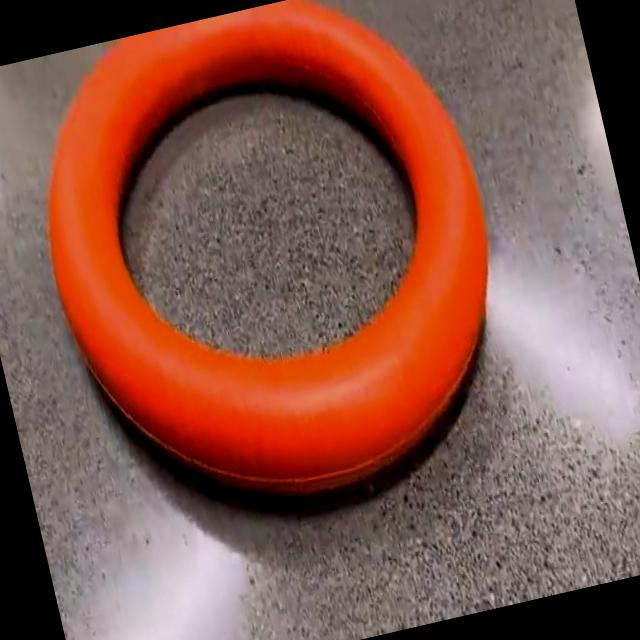note: (49, 0, 486, 492)
